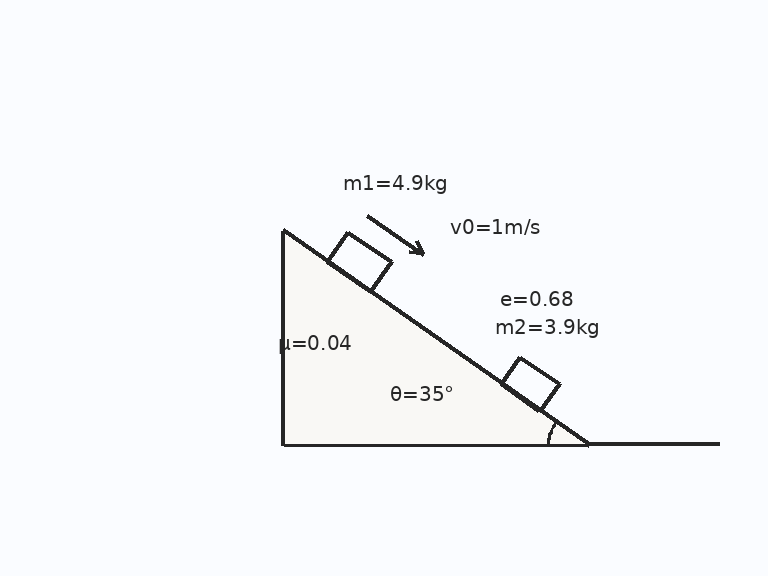block: (325, 230, 392, 294), (499, 354, 561, 413)
ramp: (280, 229, 590, 447)
